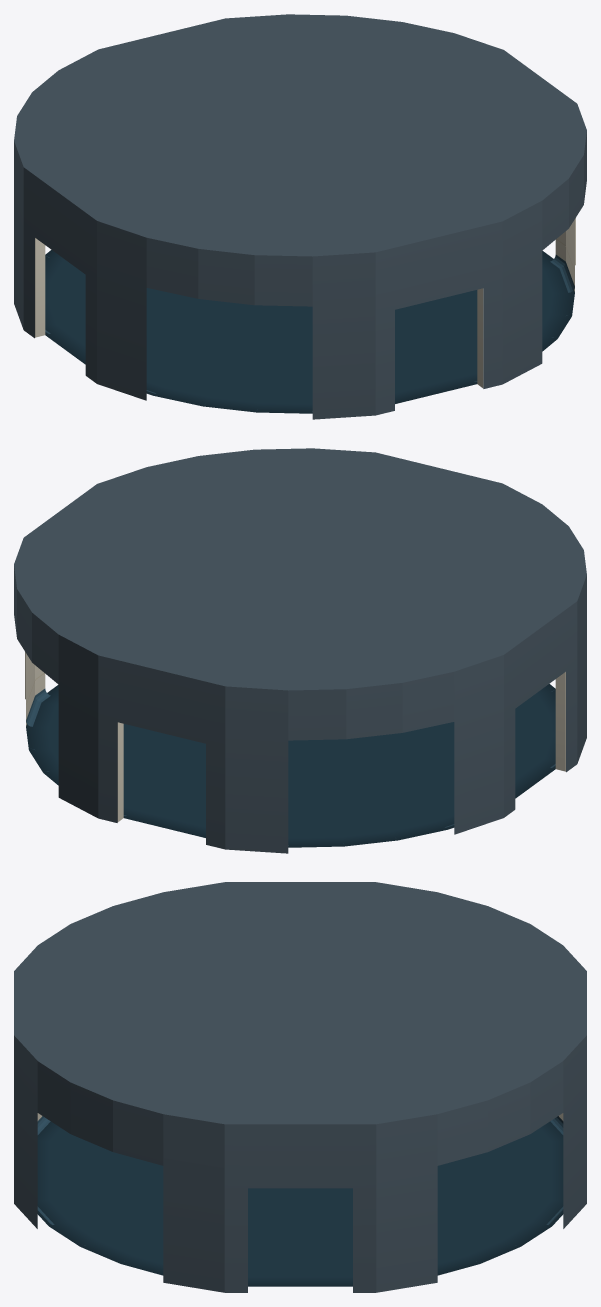
File: sala_central.glb
3 renders of one model, top to bottom at view 1: azimuth 30°, elevation 25°; view 2: azimuth 150°, elevation 25°; view 3: azimuth 270°, elevation 25°, orthographic. The views are drawn at different scales.
Visible parts, largest first — view 1: casco, paredes; view 2: casco, paredes; view 3: casco, paredes.
Boxes of the visible parts, x1=… form: casco: x1=14, y1=14, x2=586, y2=419; paredes: x1=35, y1=218, x2=575, y2=413; casco: x1=14, y1=448, x2=586, y2=853; paredes: x1=25, y1=652, x2=565, y2=847; casco: x1=14, y1=882, x2=586, y2=1292; paredes: x1=37, y1=1113, x2=563, y2=1286.
Bounding box in the file's own units: 12.54 × 4.07 × 12.54.
